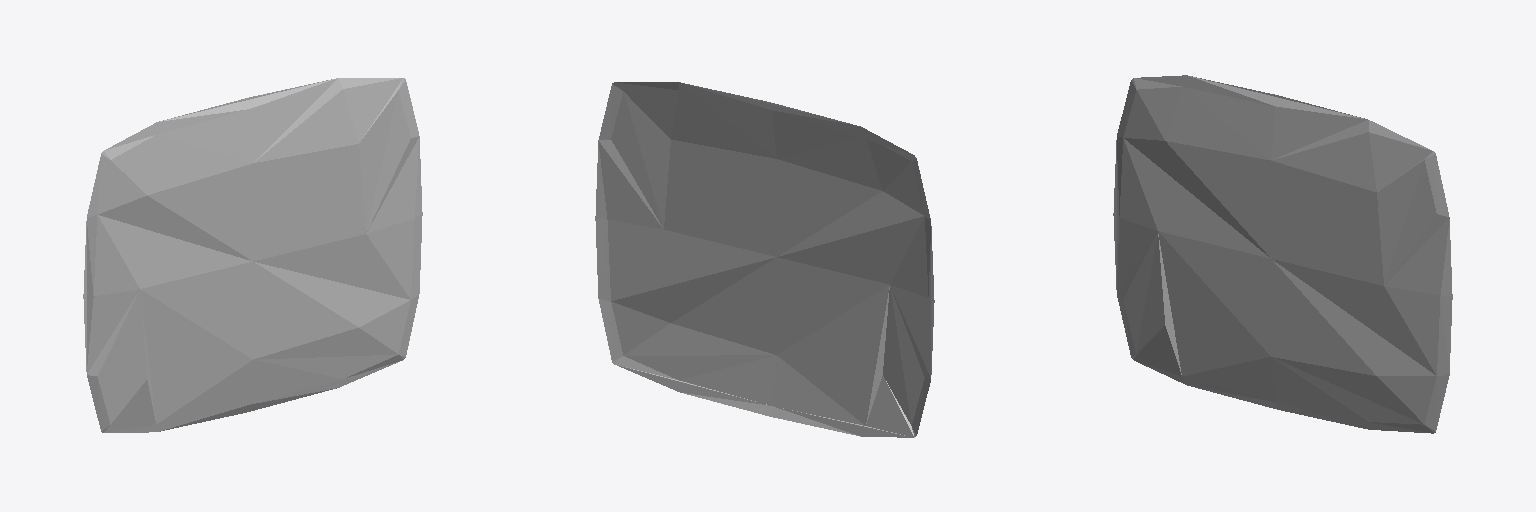
File: tv_screen.obj
3 renders of one model, left to right at view 1: azimuth 30°, elevation 25°; view 2: azimuth 150°, elevation 25°; view 3: azimuth 330°, elevation 25°, orthographic.
Parts seen in each view (by area): view 1: screen; view 2: screen; view 3: screen.
Boxes of the visible parts, x1=… form: screen: x1=83, y1=78, x2=422, y2=432; screen: x1=595, y1=82, x2=934, y2=437; screen: x1=1113, y1=75, x2=1452, y2=433.
Bounding box in the file's own units: 1.33 × 1.18 × 0.041.